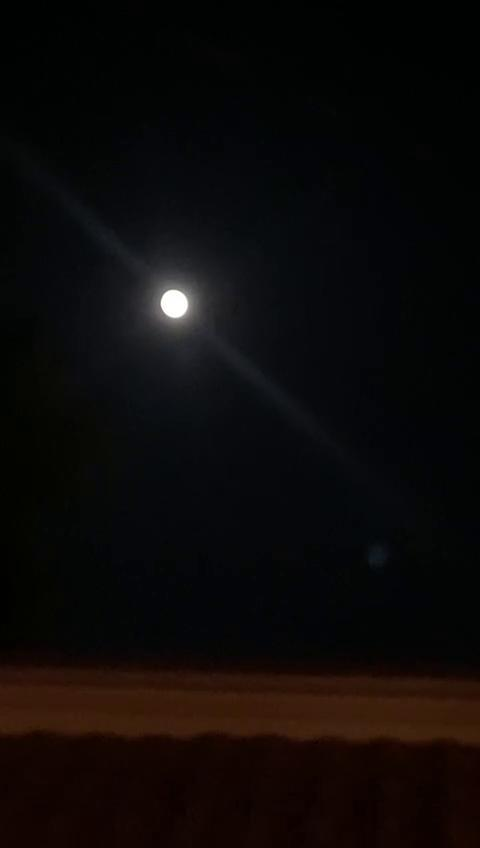moon: (154, 280, 193, 321)
